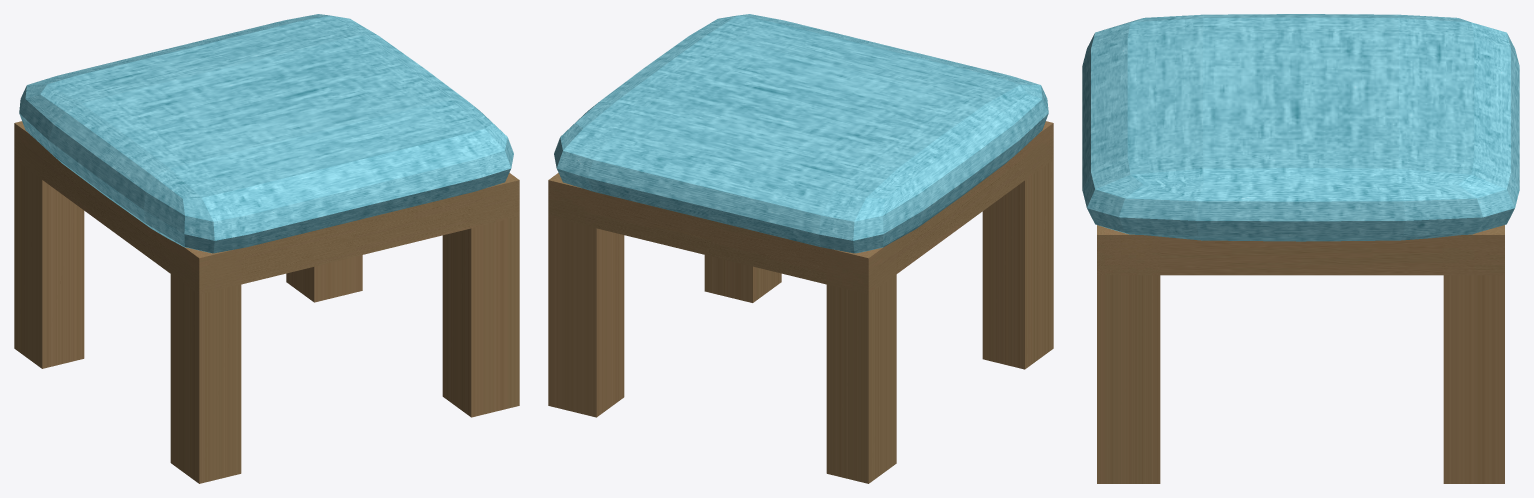
File: Taburete.fbx
3 renders of one model, left to right at view 1: azimuth 30°, elevation 25°; view 2: azimuth 150°, elevation 25°; view 3: azimuth 270°, elevation 25°, orthographic. The views are drawn at different scales.
Visible parts, largest first — view 1: Cube, taburete; view 2: Cube, taburete; view 3: Cube, taburete.
Boxes of the visible parts, x1,y1,x2,y2 form: Cube: [19, 14, 513, 253]; taburete: [14, 121, 519, 483]; Cube: [554, 14, 1048, 253]; taburete: [548, 121, 1053, 483]; Cube: [1082, 14, 1519, 241]; taburete: [1097, 225, 1504, 483].
Bounding box in the file's own units: 299 × 231 × 299.
2 materials, 2 textured.
